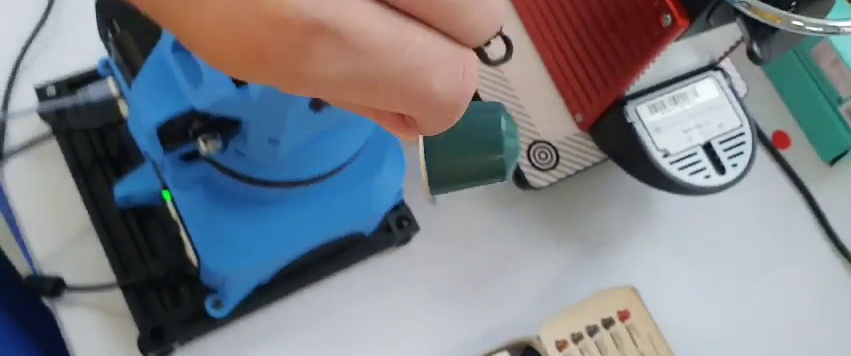capsule_13: (414, 98, 522, 211)
